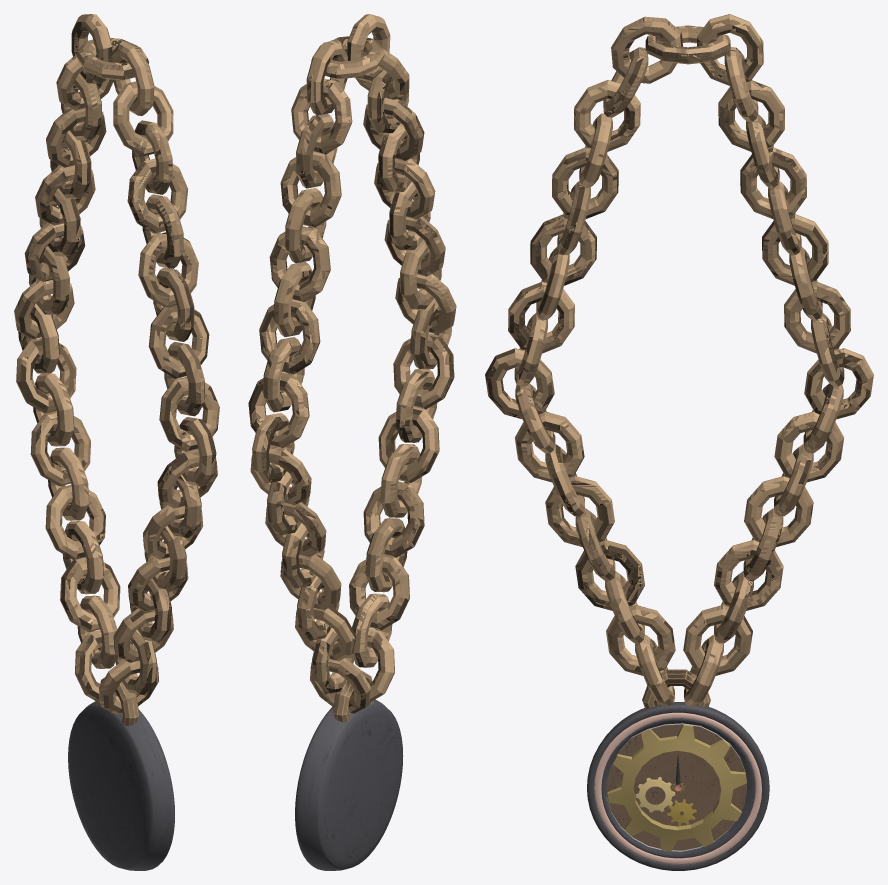
3 renders of one model, left to right at view 1: azimuth 30°, elevation 25°; view 2: azimuth 150°, elevation 25°; view 3: azimuth 270°, elevation 25°, orthographic.
Parts seen in each view (by area): view 1: Chain, Compass1, Chain_Attachment; view 2: Chain, Compass1, Chain_Attachment; view 3: Chain, Compass1, Gear4, Chain_Attachment.
Part boxes in pixels (x1,y1,x2,y2): Chain: (14, 14, 219, 714); Compass1: (68, 701, 174, 870); Chain_Attachment: (98, 677, 139, 725); Chain: (248, 14, 456, 713); Compass1: (295, 699, 403, 870); Chain_Attachment: (333, 670, 373, 722); Chain: (485, 14, 873, 706); Compass1: (587, 702, 769, 870); Gear4: (607, 724, 746, 851); Chain_Attachment: (642, 669, 710, 708).
Bounding box in the file's own units: 2.48 × 33.73 × 13.98.
9 materials, 9 textured.
